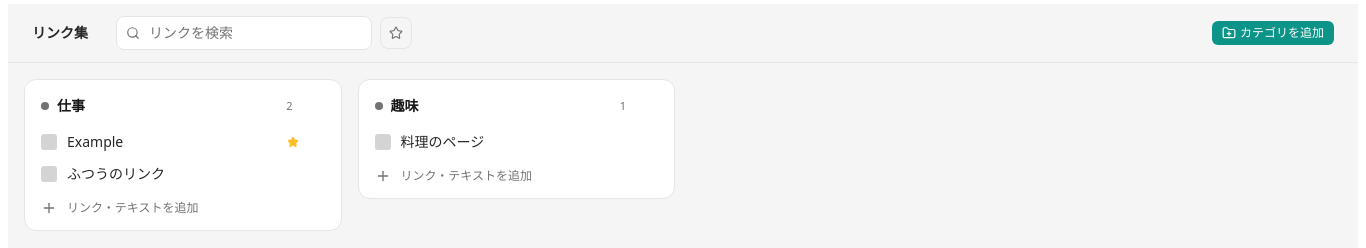
it: お気に入りだけ表示 › 検索と一緒に使える
The image size is (1366, 248).
Expected: the text "Example" is shown, [67,132,123,152]
Click the button named "お気に入りだけ表示" at (396, 33), box [380,17,412,49]
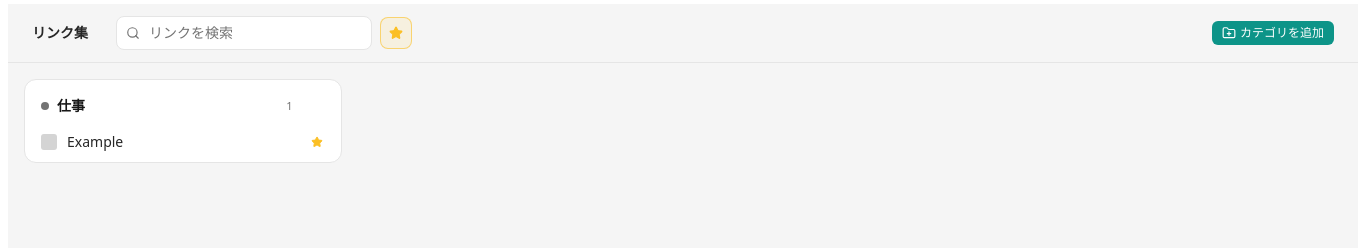
Type "料理" into the search field labelled "リンクを検索" at (244, 33), box [116,16,372,50]
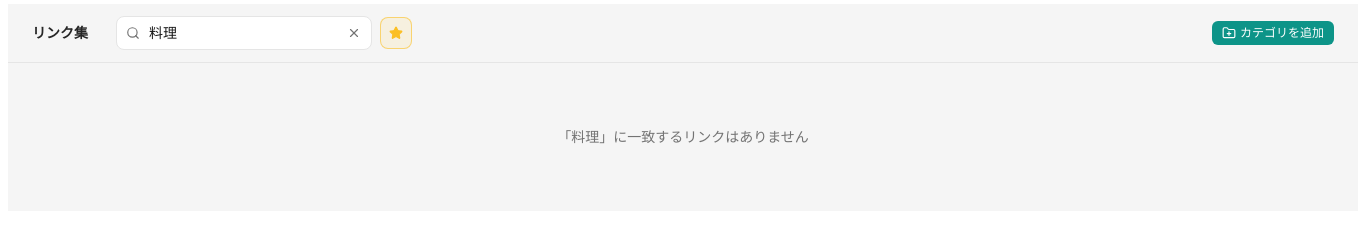
Expected: the text "「料理」に一致するリンクはありません" is shown, [557,127,809,146]
